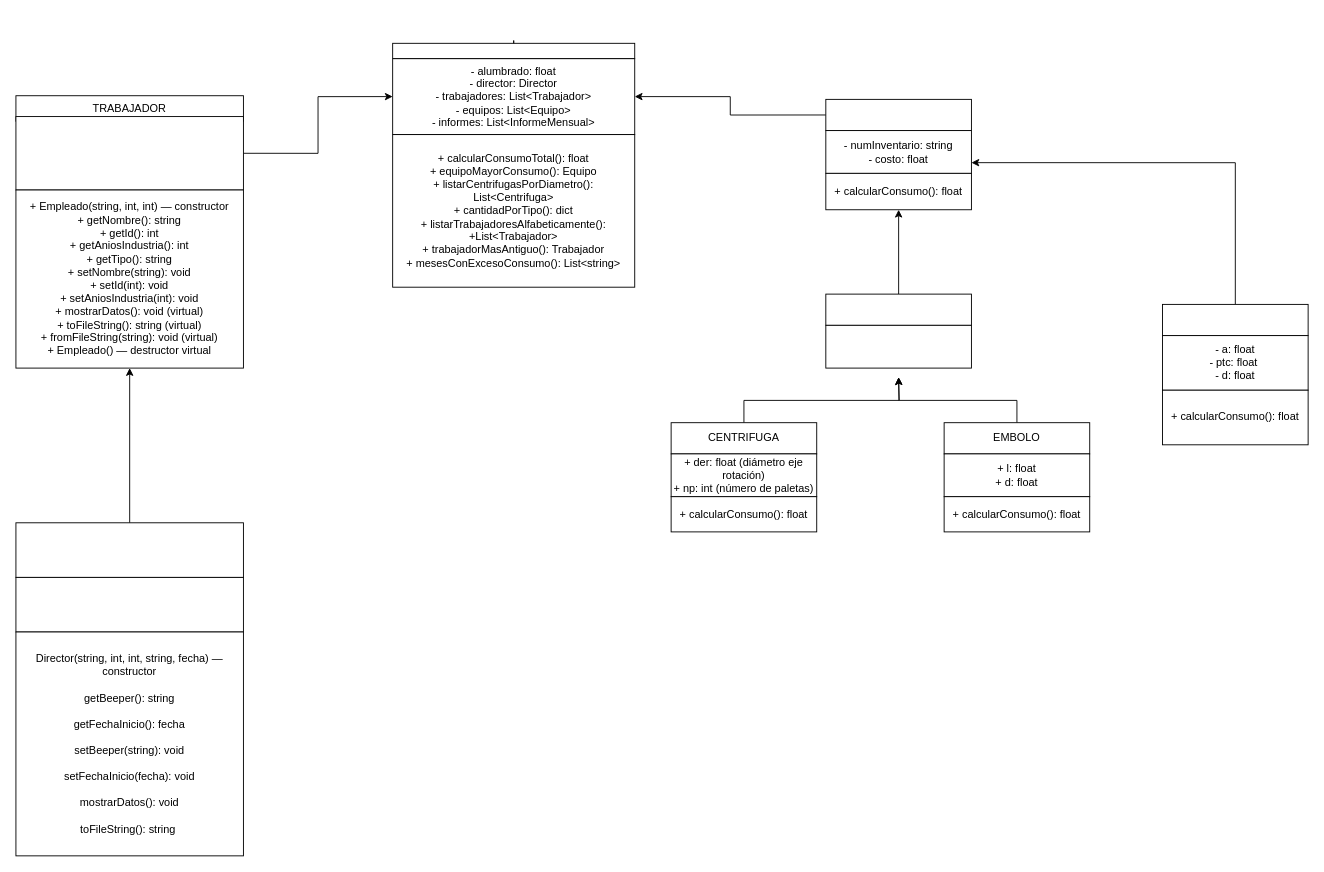
This 1324x872 diagram has some shape labels left out. Here are the shapes that lost their labels. From the top down, the centre of each, then its label:
At point (513, 50): "INDUSTRIA".
At point (898, 114): "EQUIPO".
At point (129, 153): "# nombre: string # id: int # anios_industria: int # tipo: string".
At point (898, 309): "BOMBA".
At point (1235, 319): "INTERCAMBIADOR".
At point (898, 346): "- ps: float - pd: float - f: float".
At point (129, 549): "DIRECTOR".
At point (129, 604): "beeper: string fecha_inicio: fecha".
